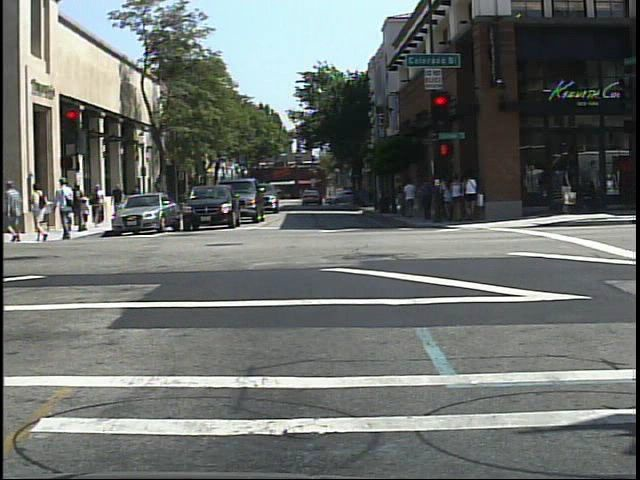person: (55, 175, 81, 244), (5, 175, 27, 247), (28, 184, 54, 243)
